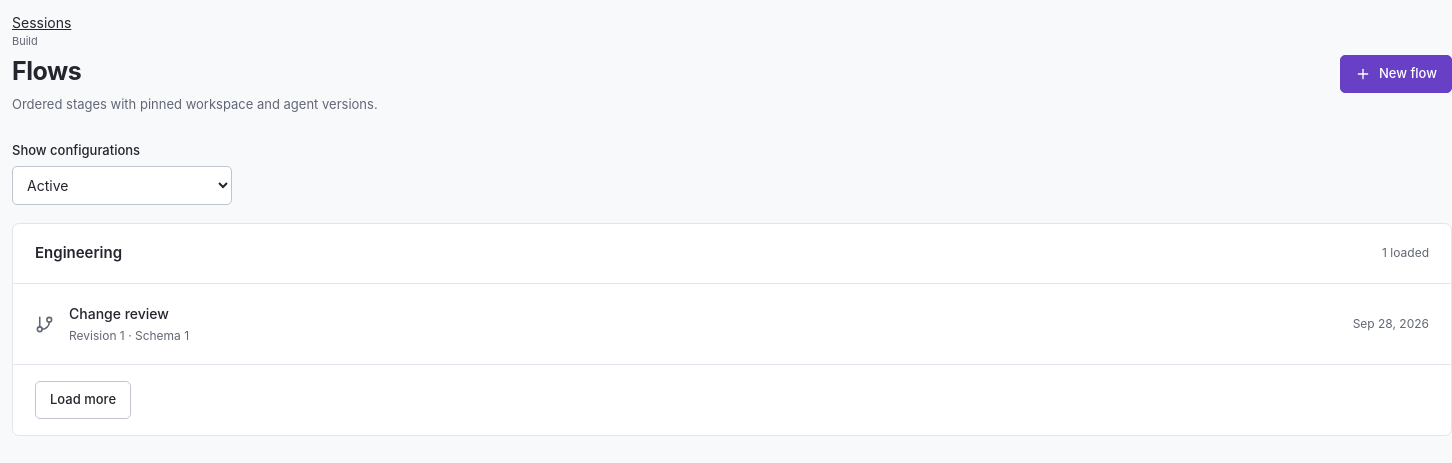
Scenario: ordered flow editing and pinned versions › lists flows and appends later pages
Click the button "Load more" at (83, 400), box [35, 380, 131, 418]
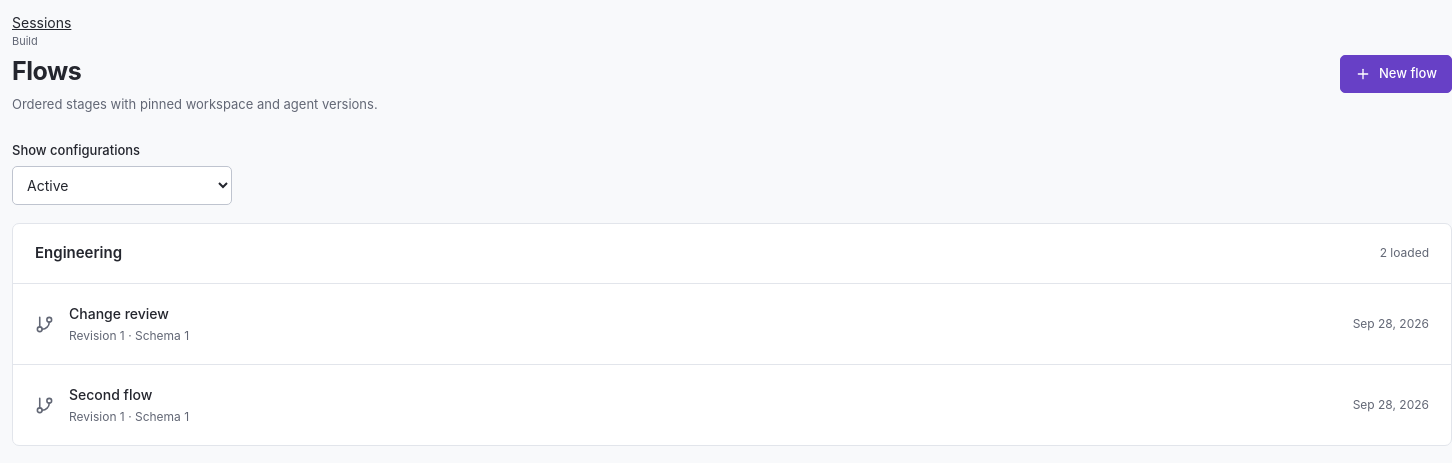
Expected: the link "Change review Revision 1 · Schema 1 Sep 28, 2026" is shown, [35, 304, 1429, 342]
Now the text "2 loaded" is shown, box [1380, 244, 1429, 262]
